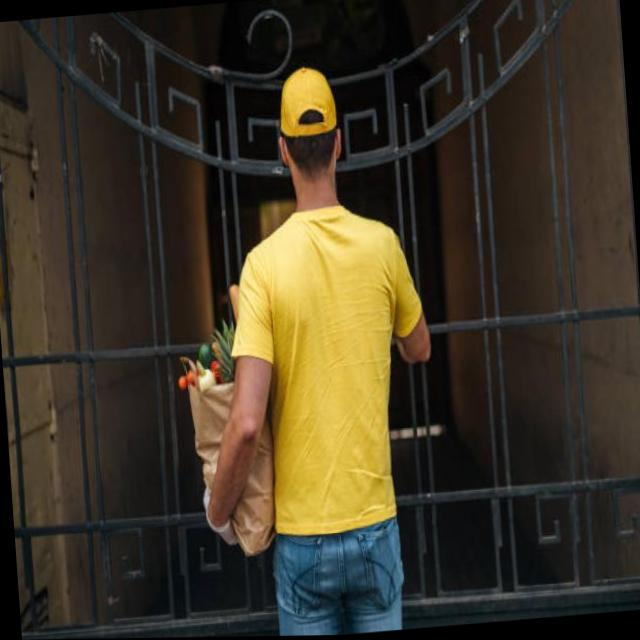no helmet: (254, 51, 359, 245)
